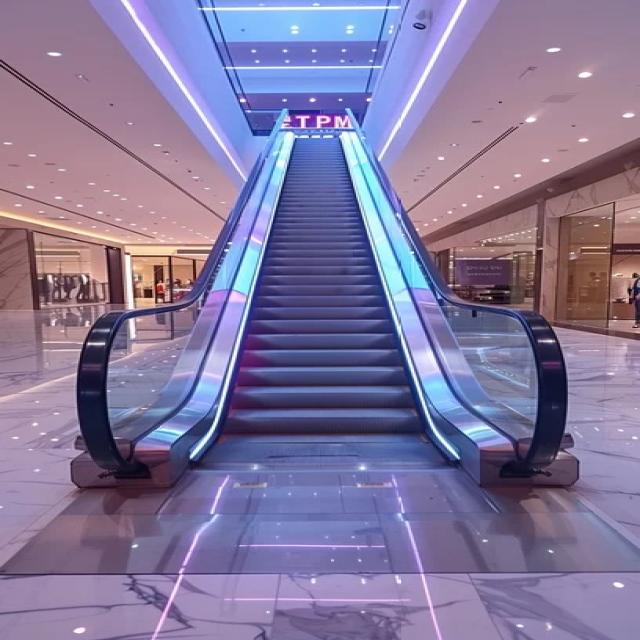escalator: (0, 99, 638, 589)
